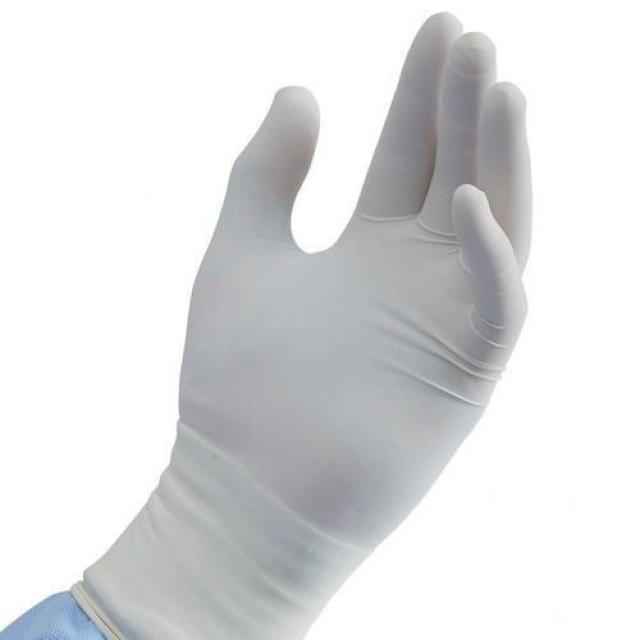Gloves: (112, 12, 538, 618)
